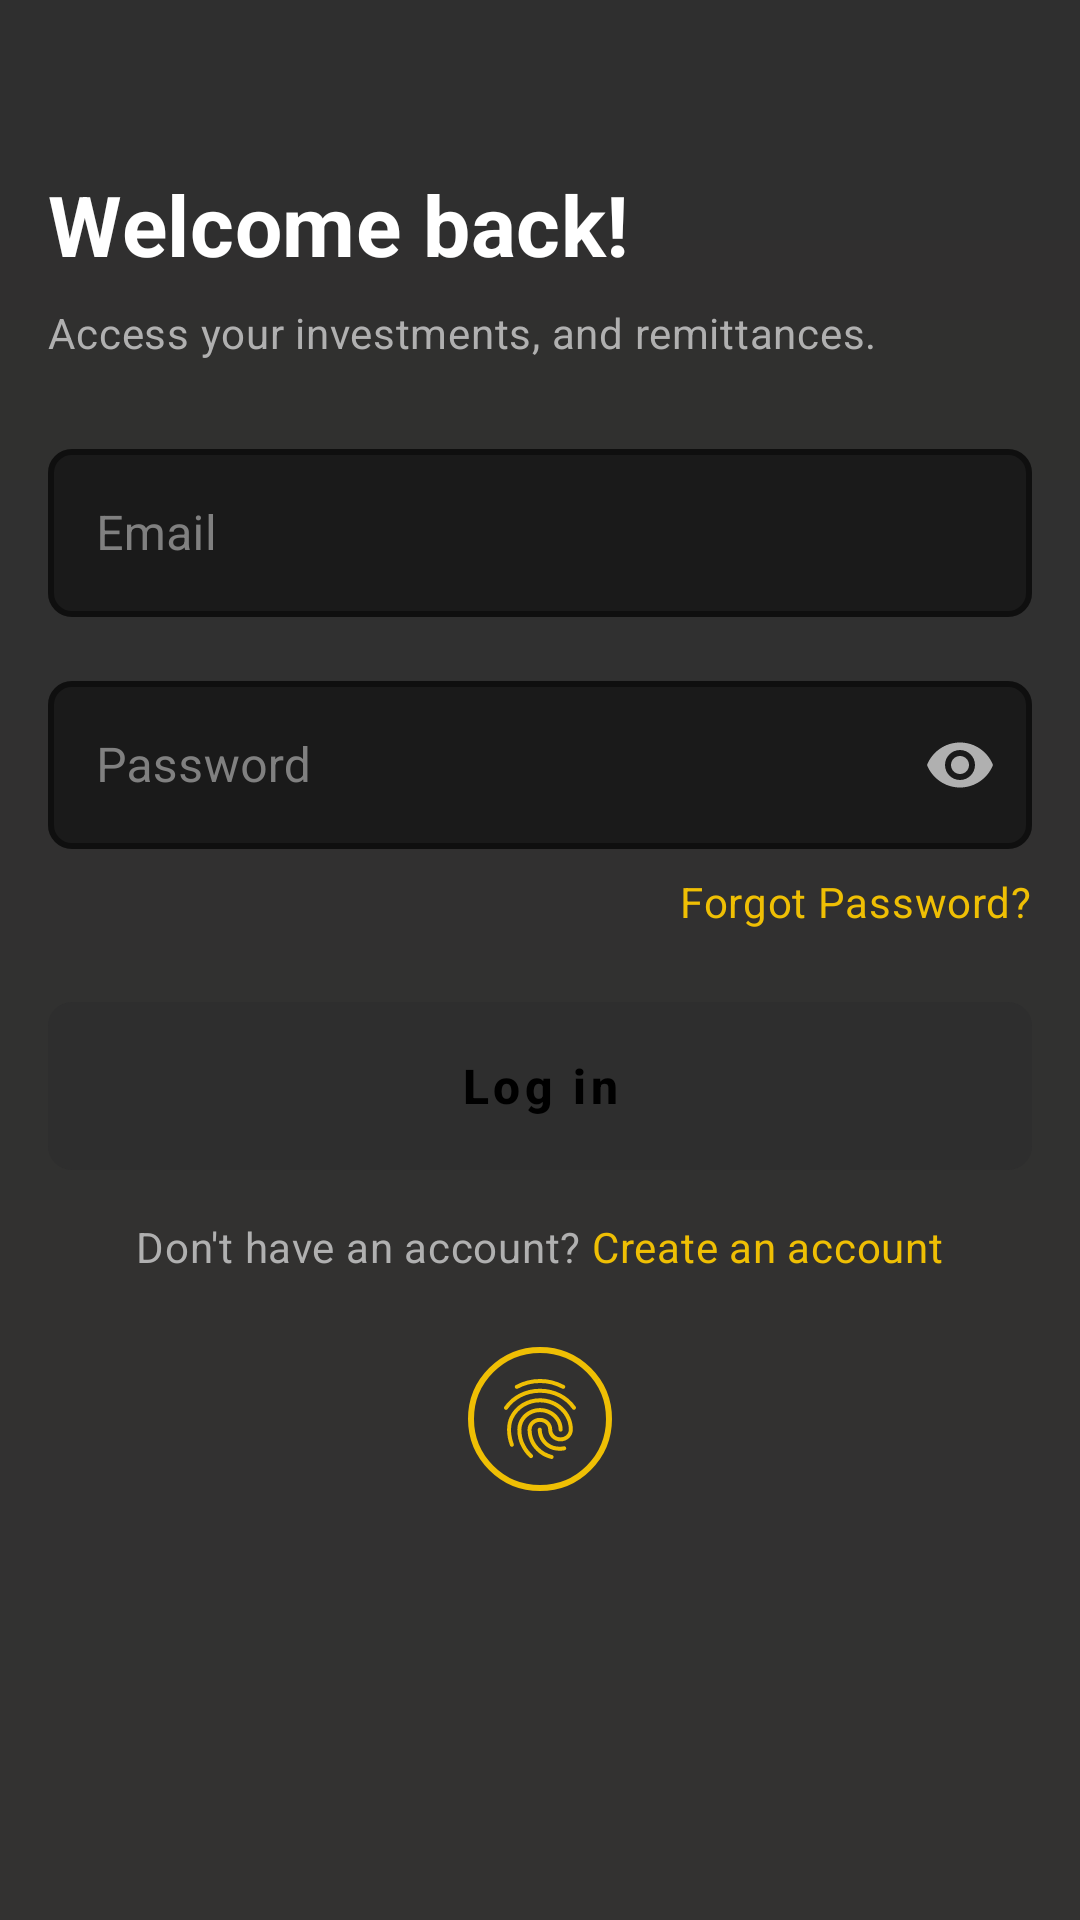

Icon bounding boxes for this 1080*1920 phone screenshot, format (x1, y1, x2, y2):
Biometric login: (468, 1347, 612, 1491)
